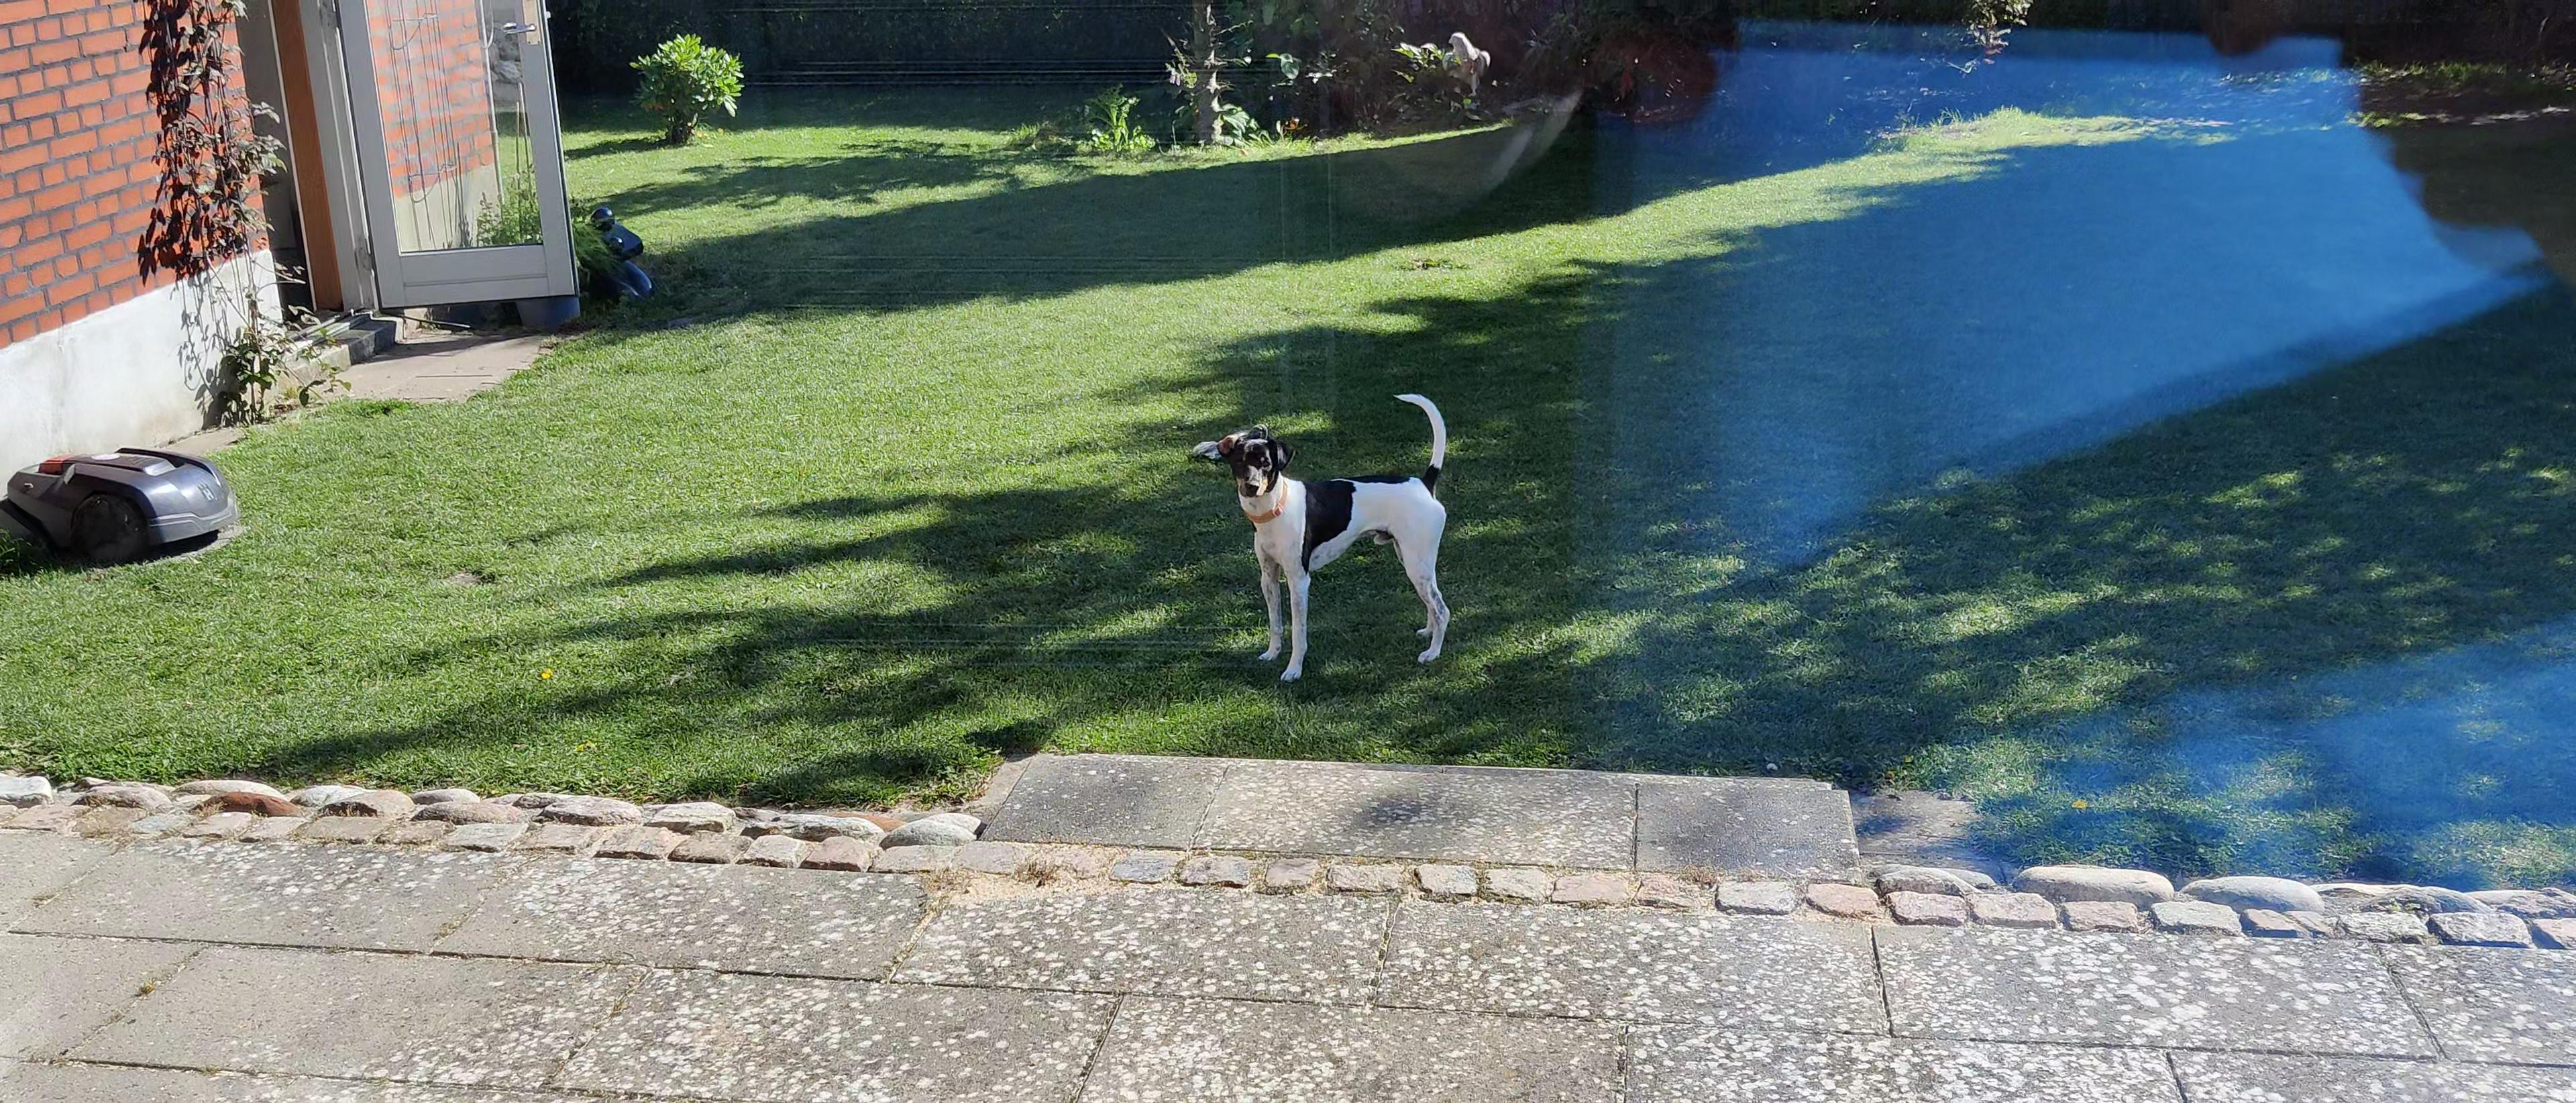Dog: (1211, 393, 1456, 682)
